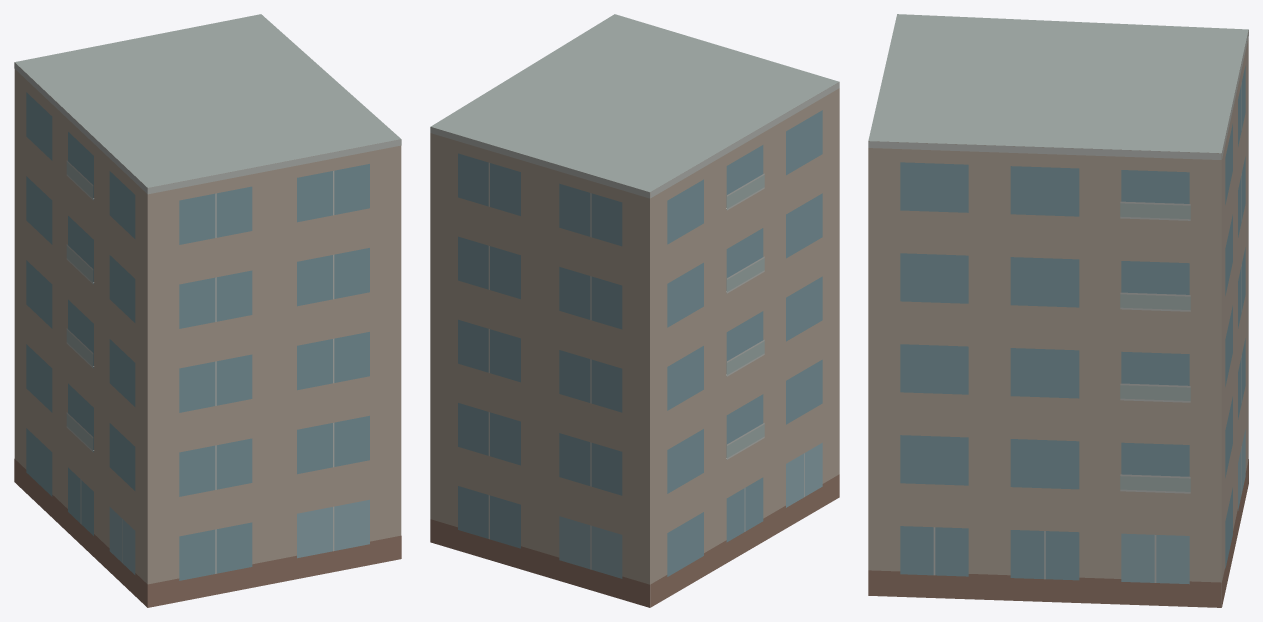
File: survey-upis-32901203.glb
The picture shows the model from 3 angles, left to right: view 1: azimuth 30°, elevation 25°; view 2: azimuth 150°, elevation 25°; view 3: azimuth 270°, elevation 25°; orthographic projection. The views are drawn at different scales.
Parts seen in each view (by area): view 1: survey-upis-32901203.tmp; view 2: survey-upis-32901203.tmp; view 3: survey-upis-32901203.tmp.
Part boxes in pixels (box(x1,y1,x2,y2)): survey-upis-32901203.tmp: box(14, 14, 401, 607); survey-upis-32901203.tmp: box(430, 14, 839, 607); survey-upis-32901203.tmp: box(868, 14, 1248, 607).
Size of the model in its own units: 10.52 by 16 by 12.14.
